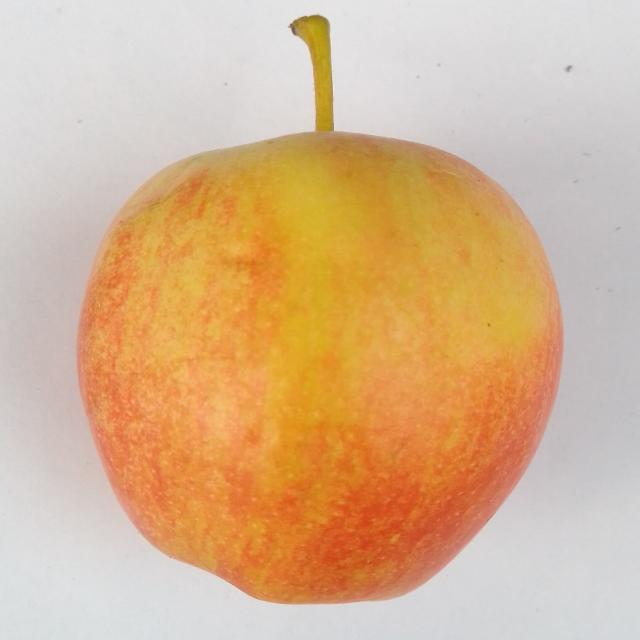Fresh Apple: (72, 125, 570, 610)
